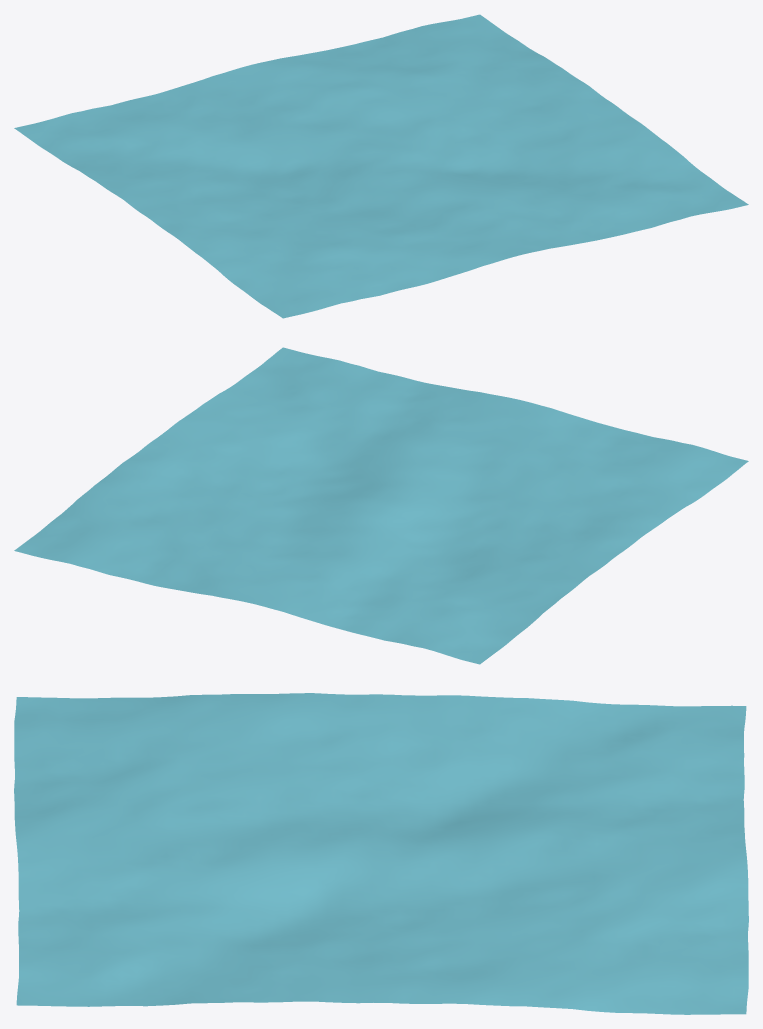
File: sea.dae
The picture shows the model from 3 angles, top to bottom: view 1: azimuth 30°, elevation 25°; view 2: azimuth 150°, elevation 25°; view 3: azimuth 270°, elevation 25°; orthographic projection. The views are drawn at different scales.
Visible parts, largest first — view 1: sea; view 2: sea; view 3: sea.
Part boxes in pixels (x1=…): sea: x1=14, y1=14, x2=748, y2=318; sea: x1=14, y1=347, x2=748, y2=664; sea: x1=14, y1=693, x2=748, y2=1014.
Bounding box in the file's own units: 19.14 × 19.21 × 0.549.
